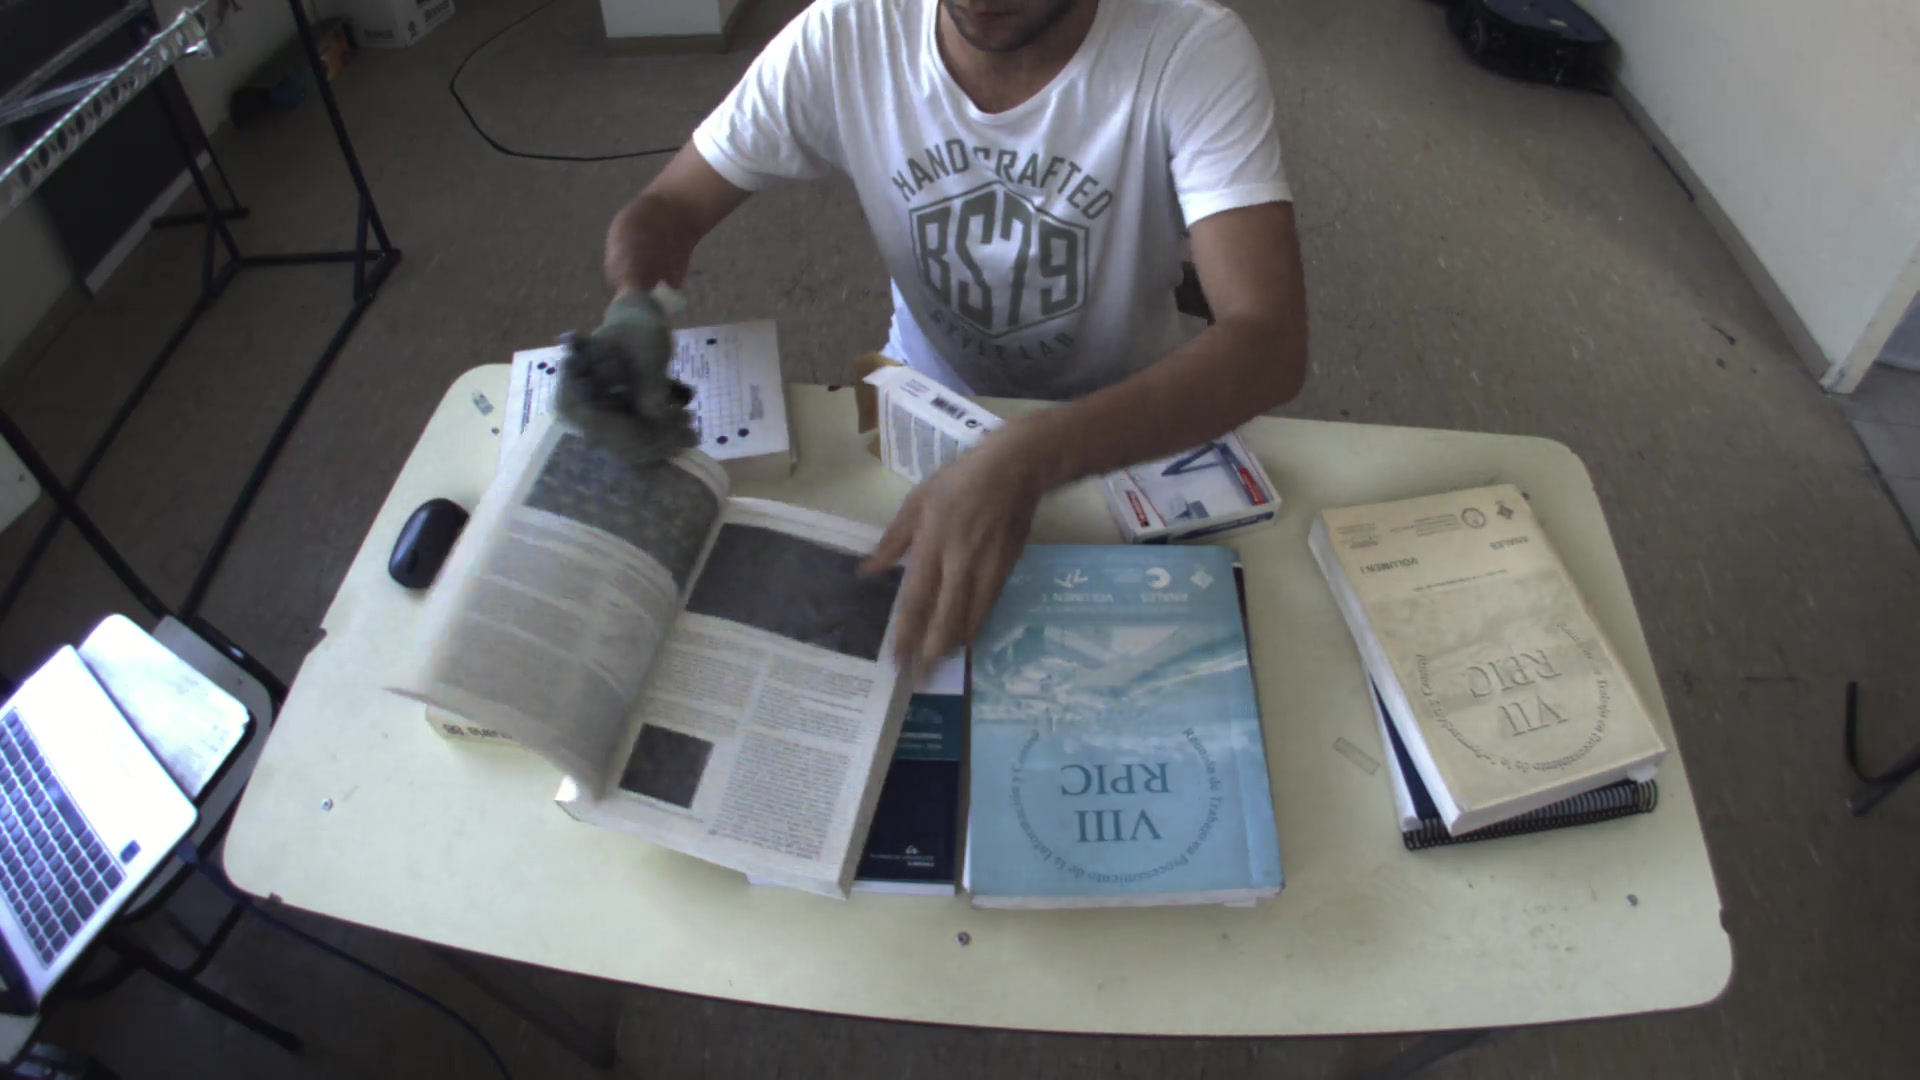hand: (849, 440, 1029, 688), (550, 287, 694, 440)
